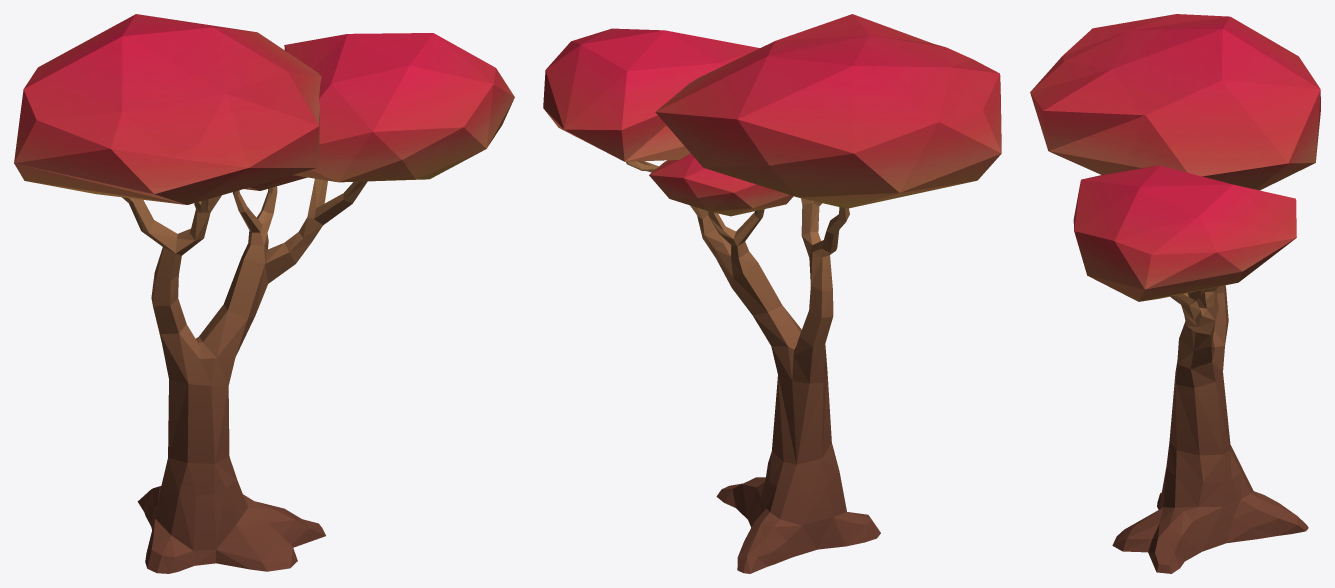
The model's file is ZLP_Plant_A_3.FBX.
The picture shows the model from 3 angles, left to right: view 1: azimuth 30°, elevation 25°; view 2: azimuth 150°, elevation 25°; view 3: azimuth 270°, elevation 25°; orthographic projection. The views are drawn at different scales.
Parts seen in each view (by area): view 1: ZLP_Plant_A_3; view 2: ZLP_Plant_A_3; view 3: ZLP_Plant_A_3.
Boxes of the visible parts, <box> form: ZLP_Plant_A_3: <box>14,14,514,573</box>; ZLP_Plant_A_3: <box>543,14,1001,573</box>; ZLP_Plant_A_3: <box>1030,14,1320,573</box>.
Size of the model in its own units: 397 by 404 by 227.
